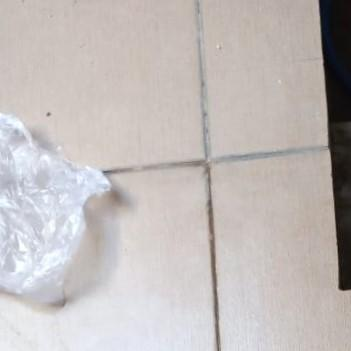Plastik: (0, 114, 111, 308)
